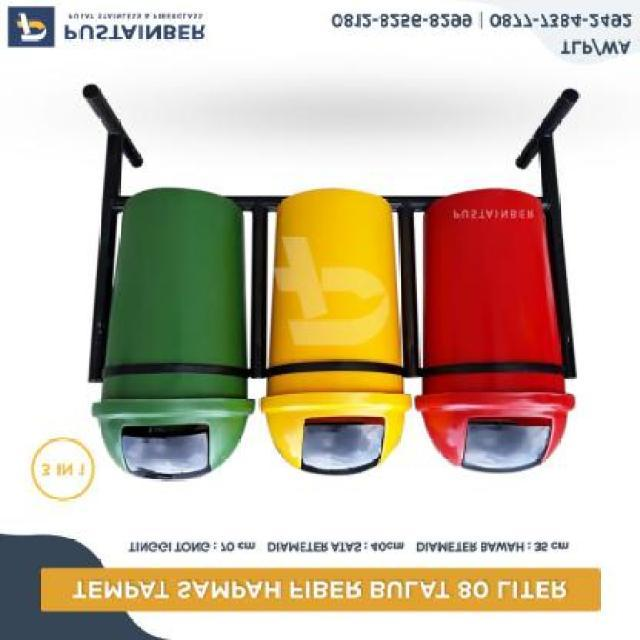garbage container: (86, 178, 262, 486), (414, 175, 580, 491), (254, 186, 413, 489)
